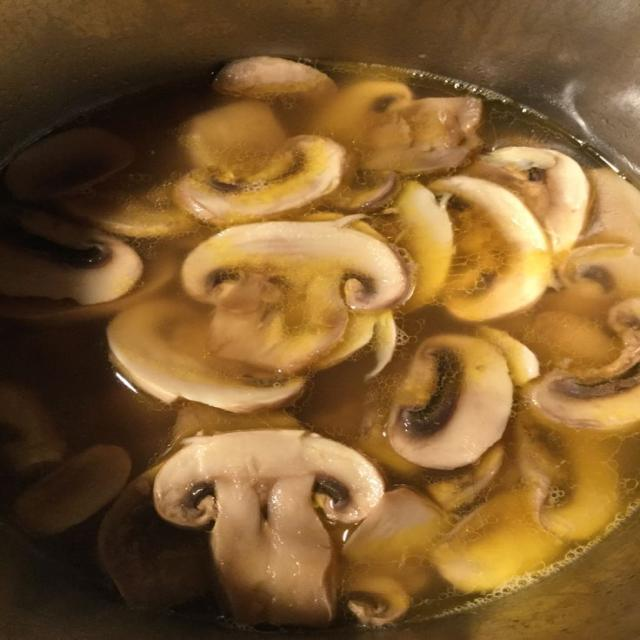champignon mushrooms: (154, 430, 384, 626), (183, 218, 411, 373), (107, 300, 304, 412), (183, 217, 412, 311), (430, 176, 551, 321), (387, 335, 513, 469), (98, 466, 212, 608), (313, 81, 481, 174), (176, 136, 346, 225), (527, 299, 639, 430), (0, 244, 183, 322), (343, 487, 445, 625), (209, 273, 348, 374), (431, 488, 562, 593), (0, 209, 142, 305), (468, 147, 589, 253), (516, 424, 619, 540), (13, 445, 131, 536), (5, 127, 133, 201), (363, 98, 481, 174), (59, 176, 197, 238), (180, 100, 286, 170), (396, 181, 453, 311), (312, 81, 413, 153), (0, 383, 66, 476), (313, 311, 397, 379), (522, 311, 615, 370), (172, 403, 301, 444), (427, 443, 504, 510), (214, 57, 335, 99), (558, 244, 639, 300), (586, 168, 639, 250), (477, 327, 539, 386), (326, 169, 398, 213)
